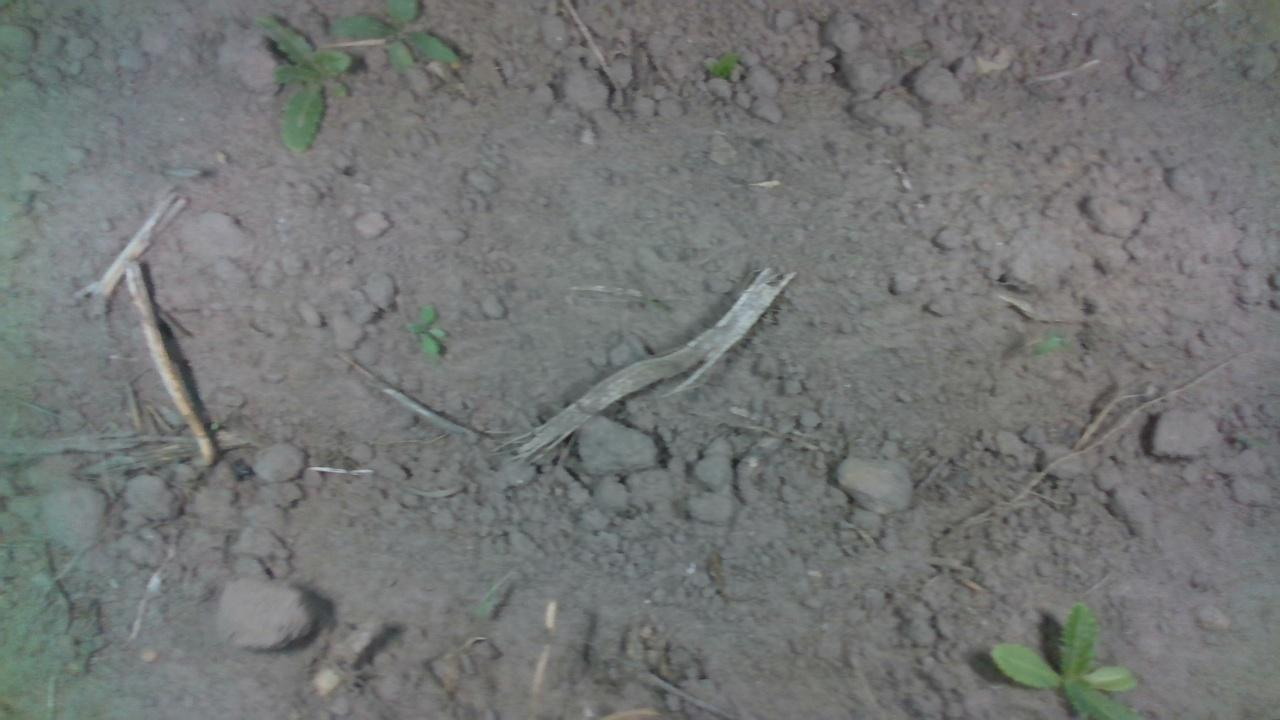weed: (401, 301, 449, 356)
